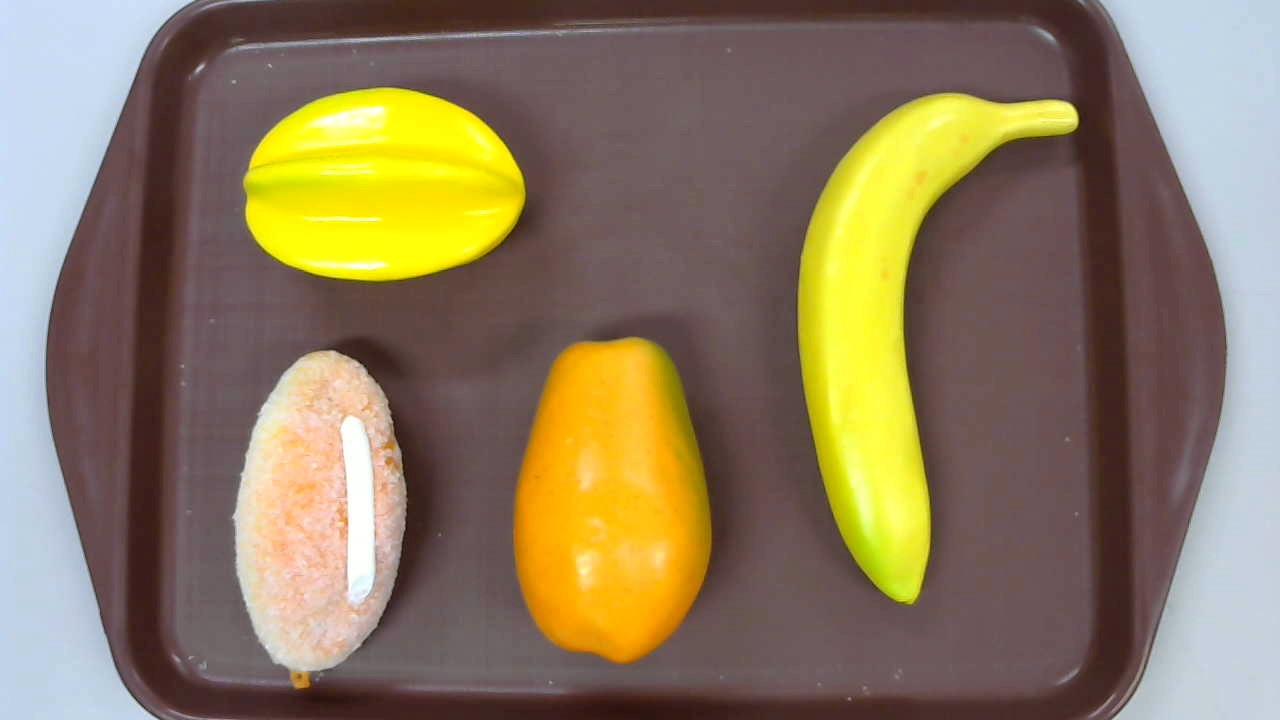banana: (796, 93, 1078, 603)
coconut: (233, 351, 406, 690)
papya: (513, 337, 710, 662)
star fruit: (242, 88, 525, 282)
